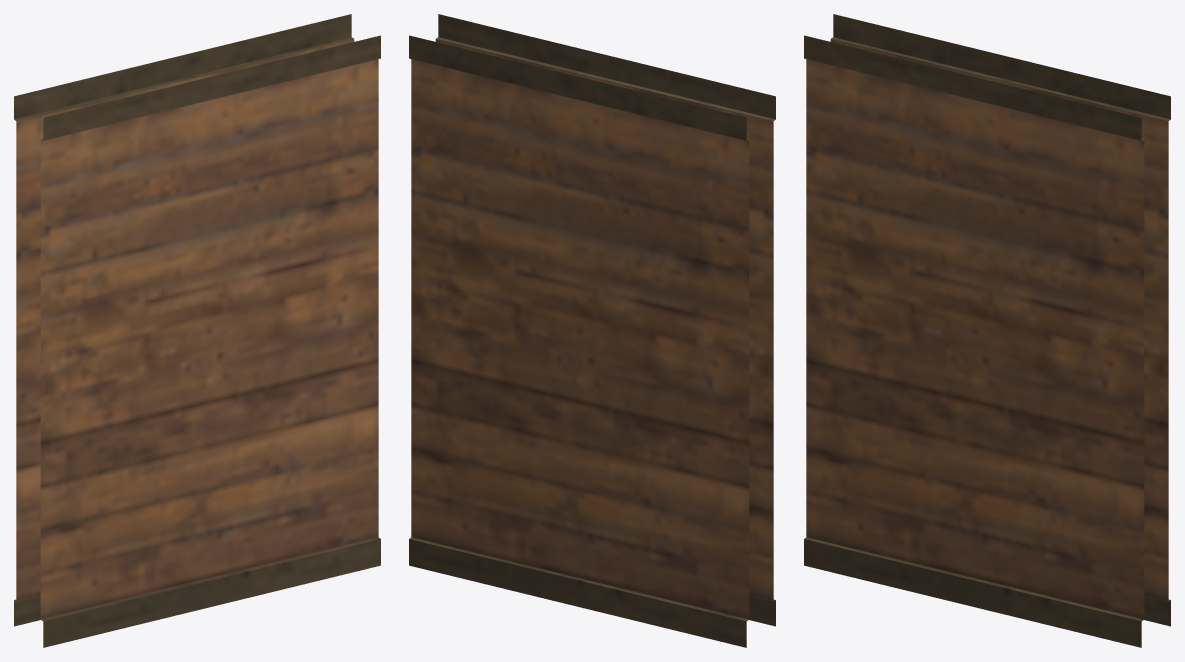
The model's file is MS_Wallpiece_I.fbx.
3 views of the same model, side by side, from view 1: azimuth 30°, elevation 25°; view 2: azimuth 150°, elevation 25°; view 3: azimuth 330°, elevation 25° (orthographic).
Visible parts, largest first — view 1: Cube; view 2: Cube; view 3: Cube.
Part boxes in pixels (left/top/right/bottom): Cube: left=14, top=14, right=380, bottom=647; Cube: left=409, top=14, right=775, bottom=647; Cube: left=804, top=14, right=1170, bottom=647.
Bounding box in the file's own units: 400 × 600 × 60.
